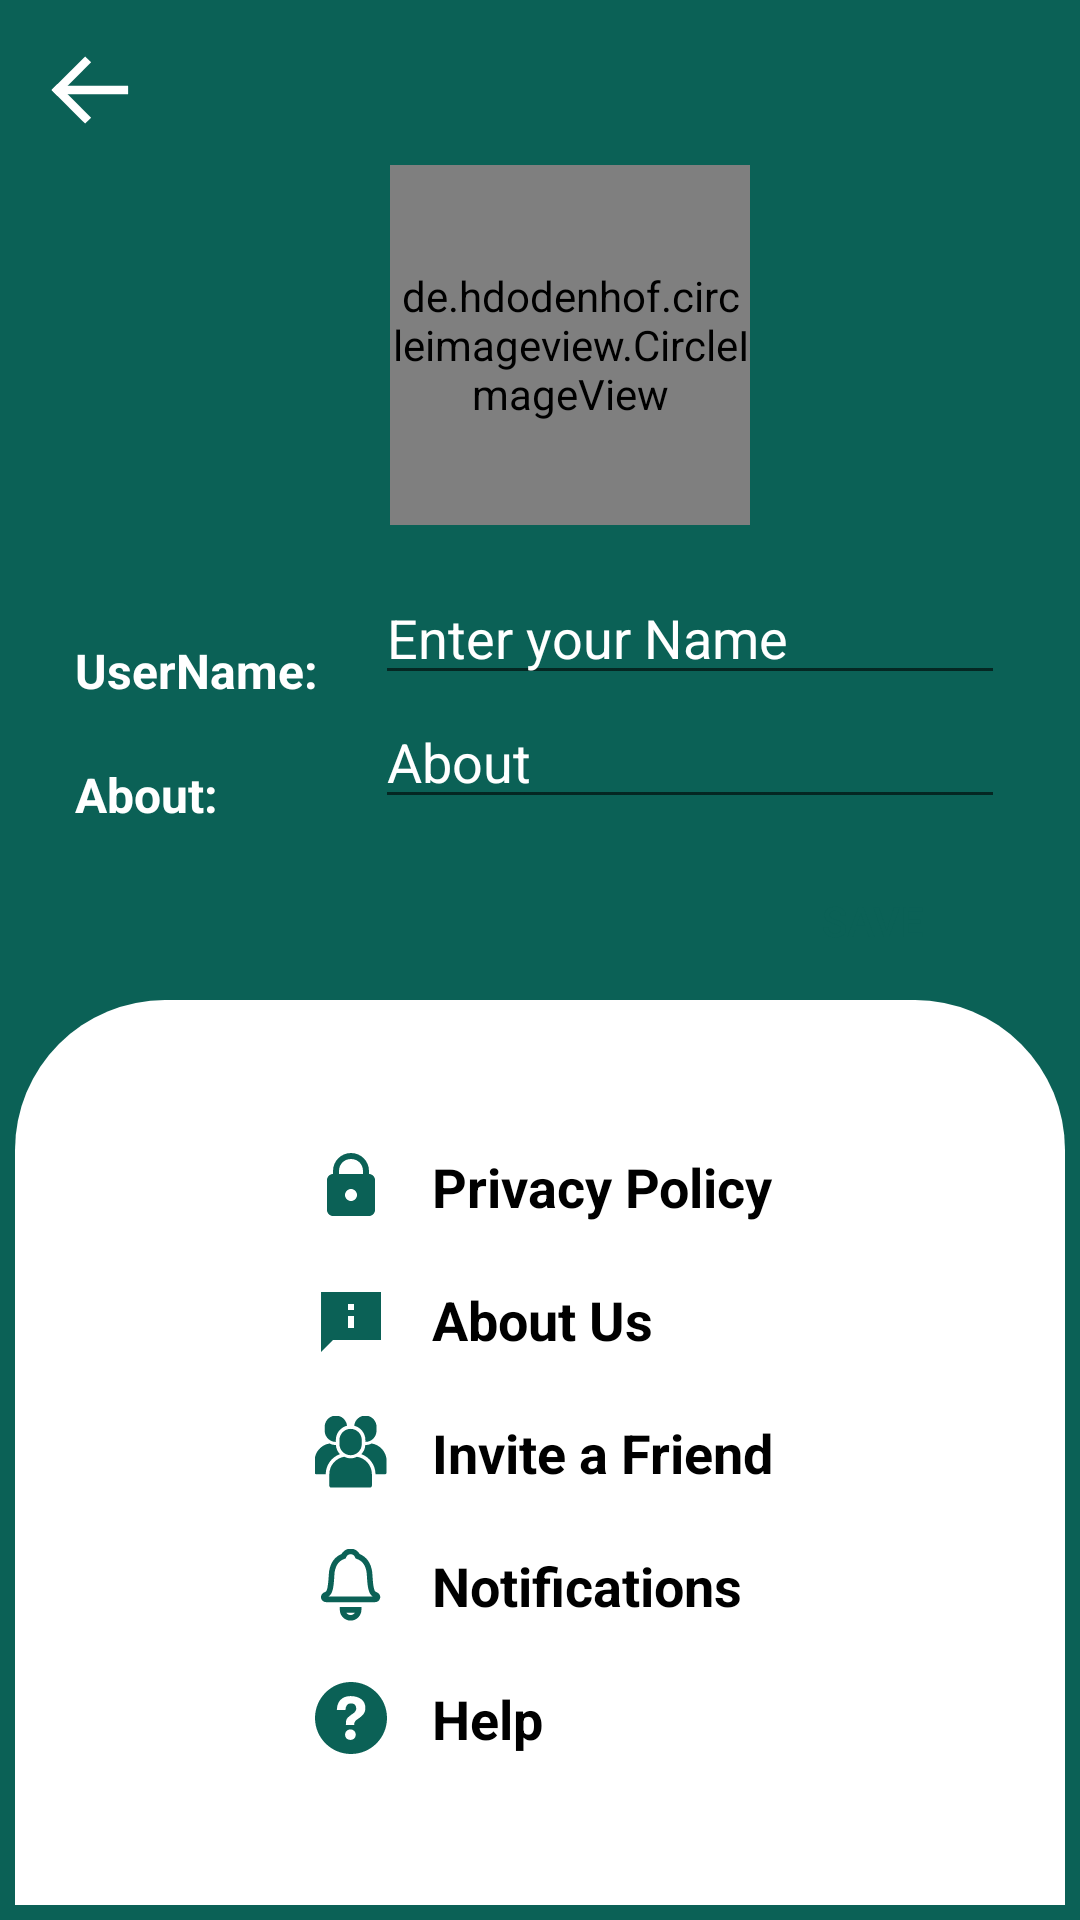

Where icons sit on this 1080*1920 app screen, as (x1, y1, x2, y2):
left arrow: (51, 56, 129, 124)
